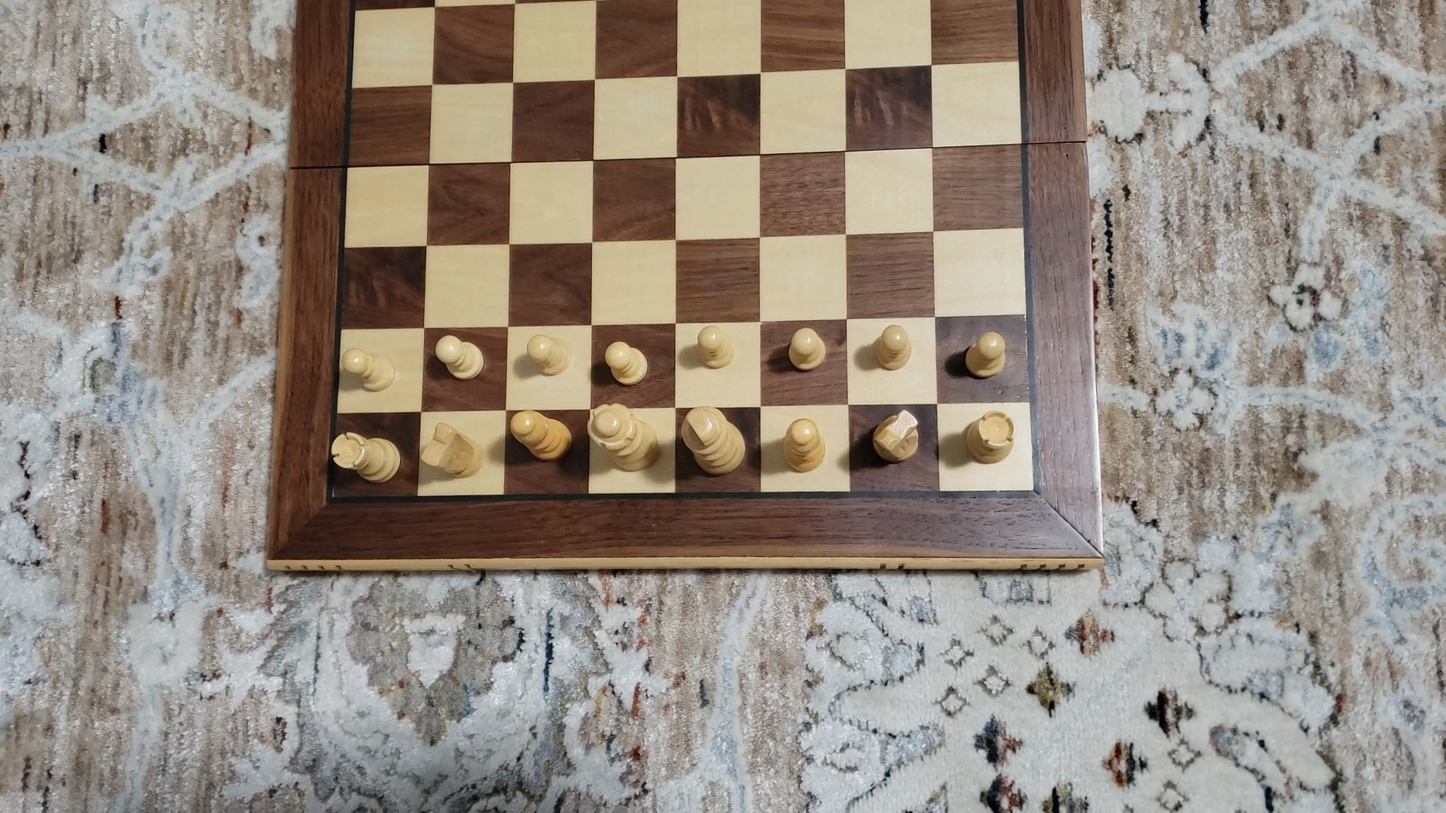white-bishop: (508, 409, 572, 462), (781, 416, 827, 475)
white-king: (681, 404, 748, 478)
white-knight: (423, 421, 483, 482), (868, 408, 921, 466)
white-pawn: (339, 345, 398, 394), (959, 327, 1011, 382), (868, 321, 917, 374), (433, 333, 486, 381), (602, 338, 650, 387), (782, 324, 829, 374), (692, 322, 739, 371), (525, 330, 573, 377)
white-queen: (586, 401, 663, 474)
white-rook: (332, 430, 400, 484), (965, 409, 1016, 465)
